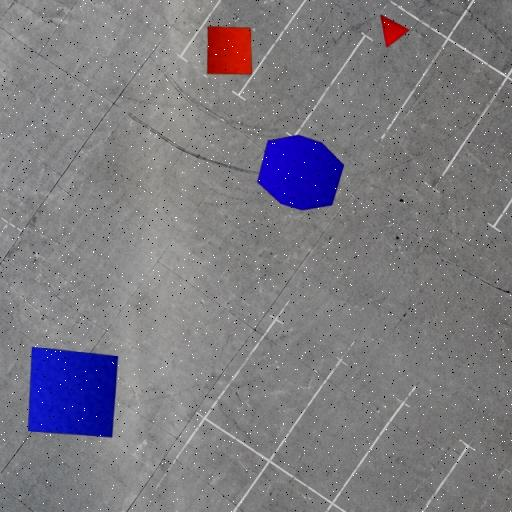BLUE_SQUARE: (27, 346, 119, 438)
RED_SQUARE: (206, 26, 253, 75)
